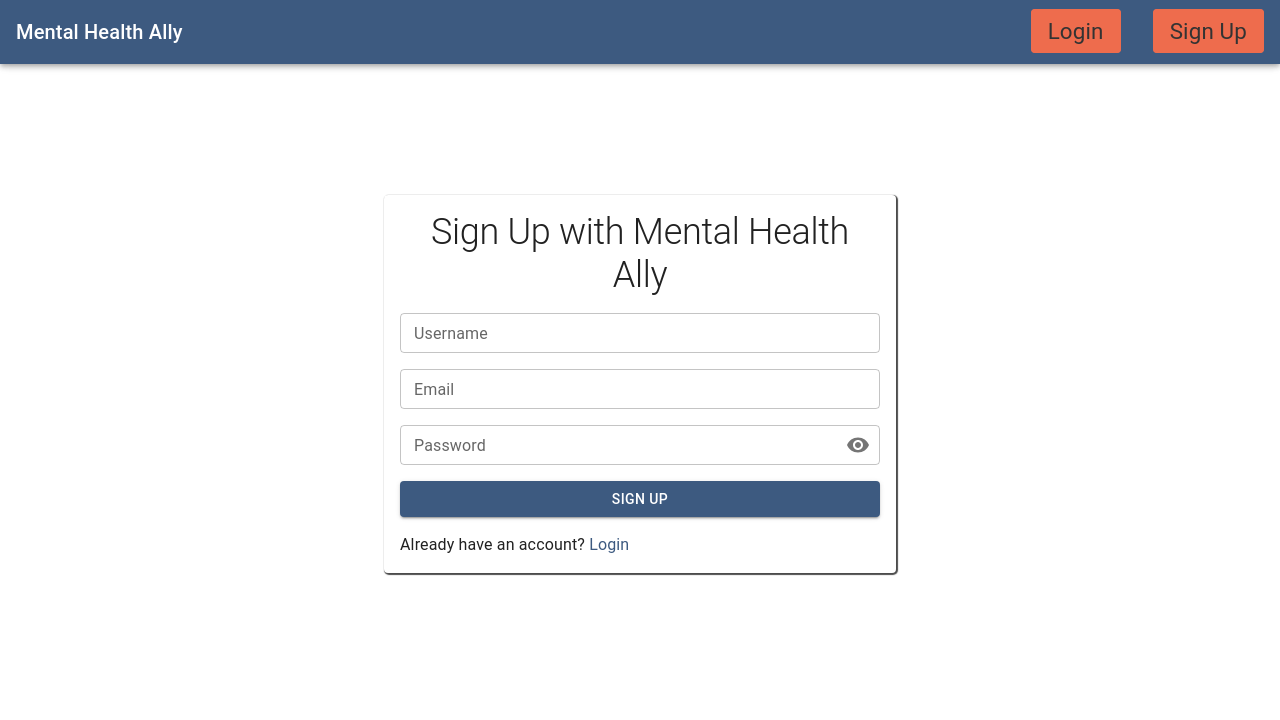
Scenario: Sign Up Page › server error is displayed on screen and user is still on the sign up form
Type "existinguser" into the field labelled "Username".
click(640, 333); type("existinguser")  # box [400,313,880,353]
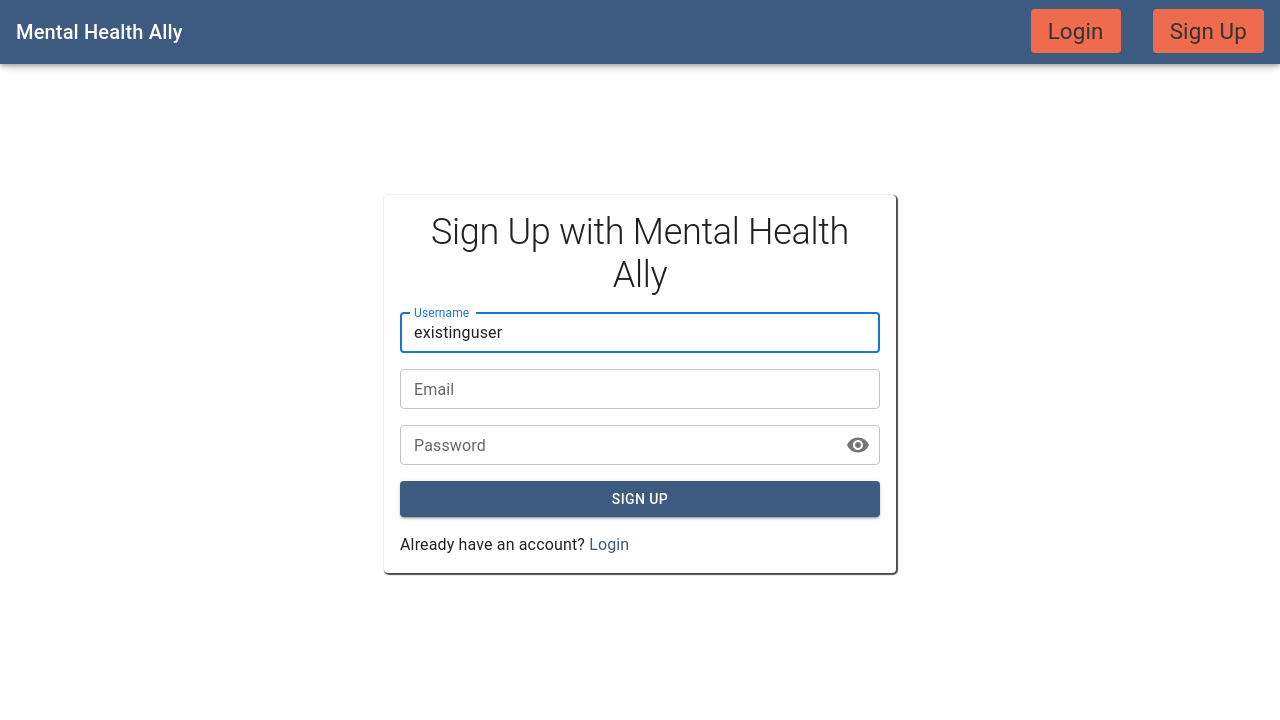
Type "123@example.com" into the field labelled "Email".
click(640, 389); type("123@example.com")  # box [400,369,880,409]
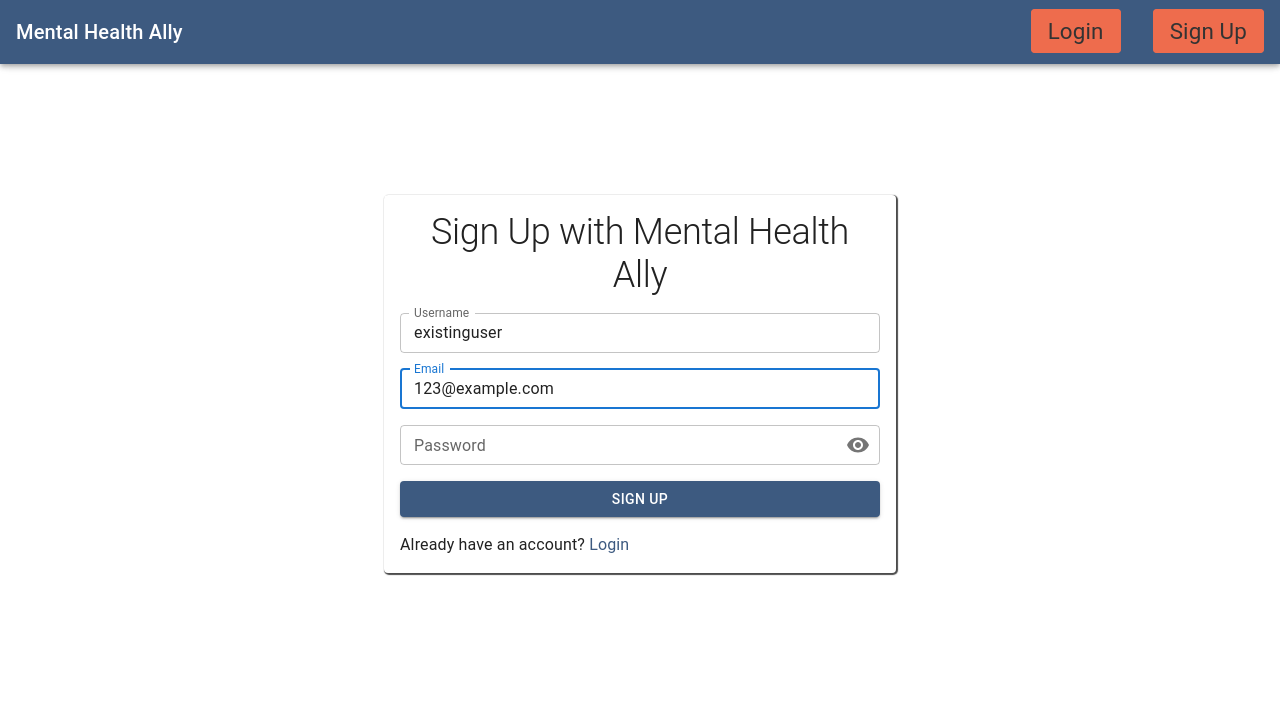
Type "password123" into the password field labelled "Password".
click(615, 445); type("password123")  # box [400,425,830,465]
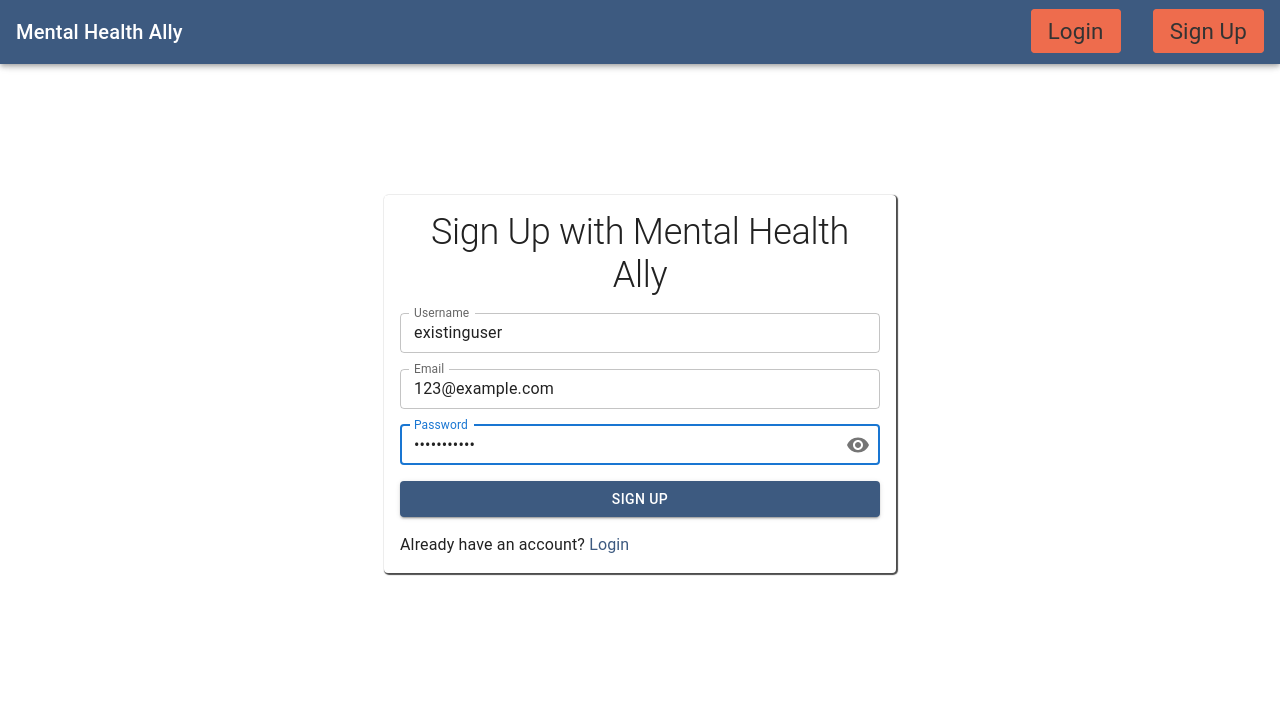
Click the button "Sign up".
click(640, 499)  # box [400,481,880,517]
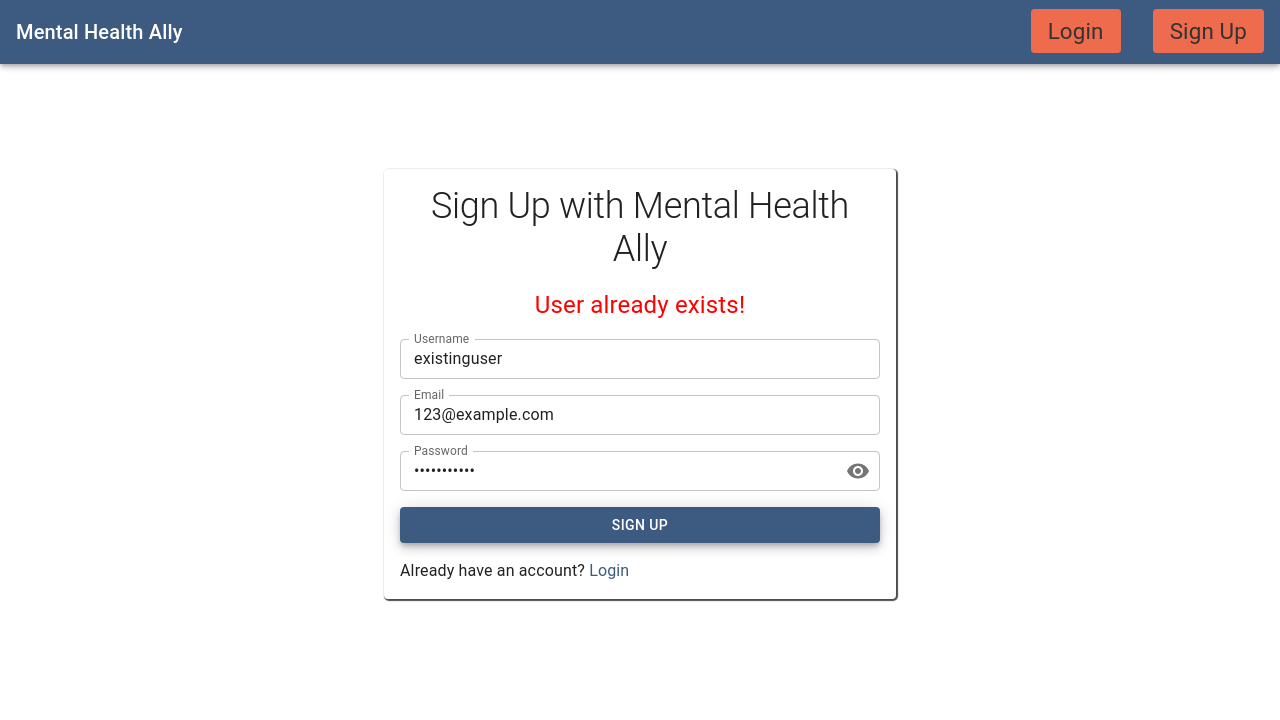
Result: the text "User already exists!" is shown at [535,291,745,319]
